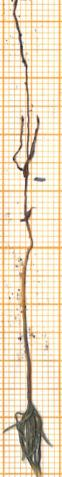flower: (4, 402, 52, 477)
root: (6, 0, 44, 179)
stem: (12, 182, 38, 401)
